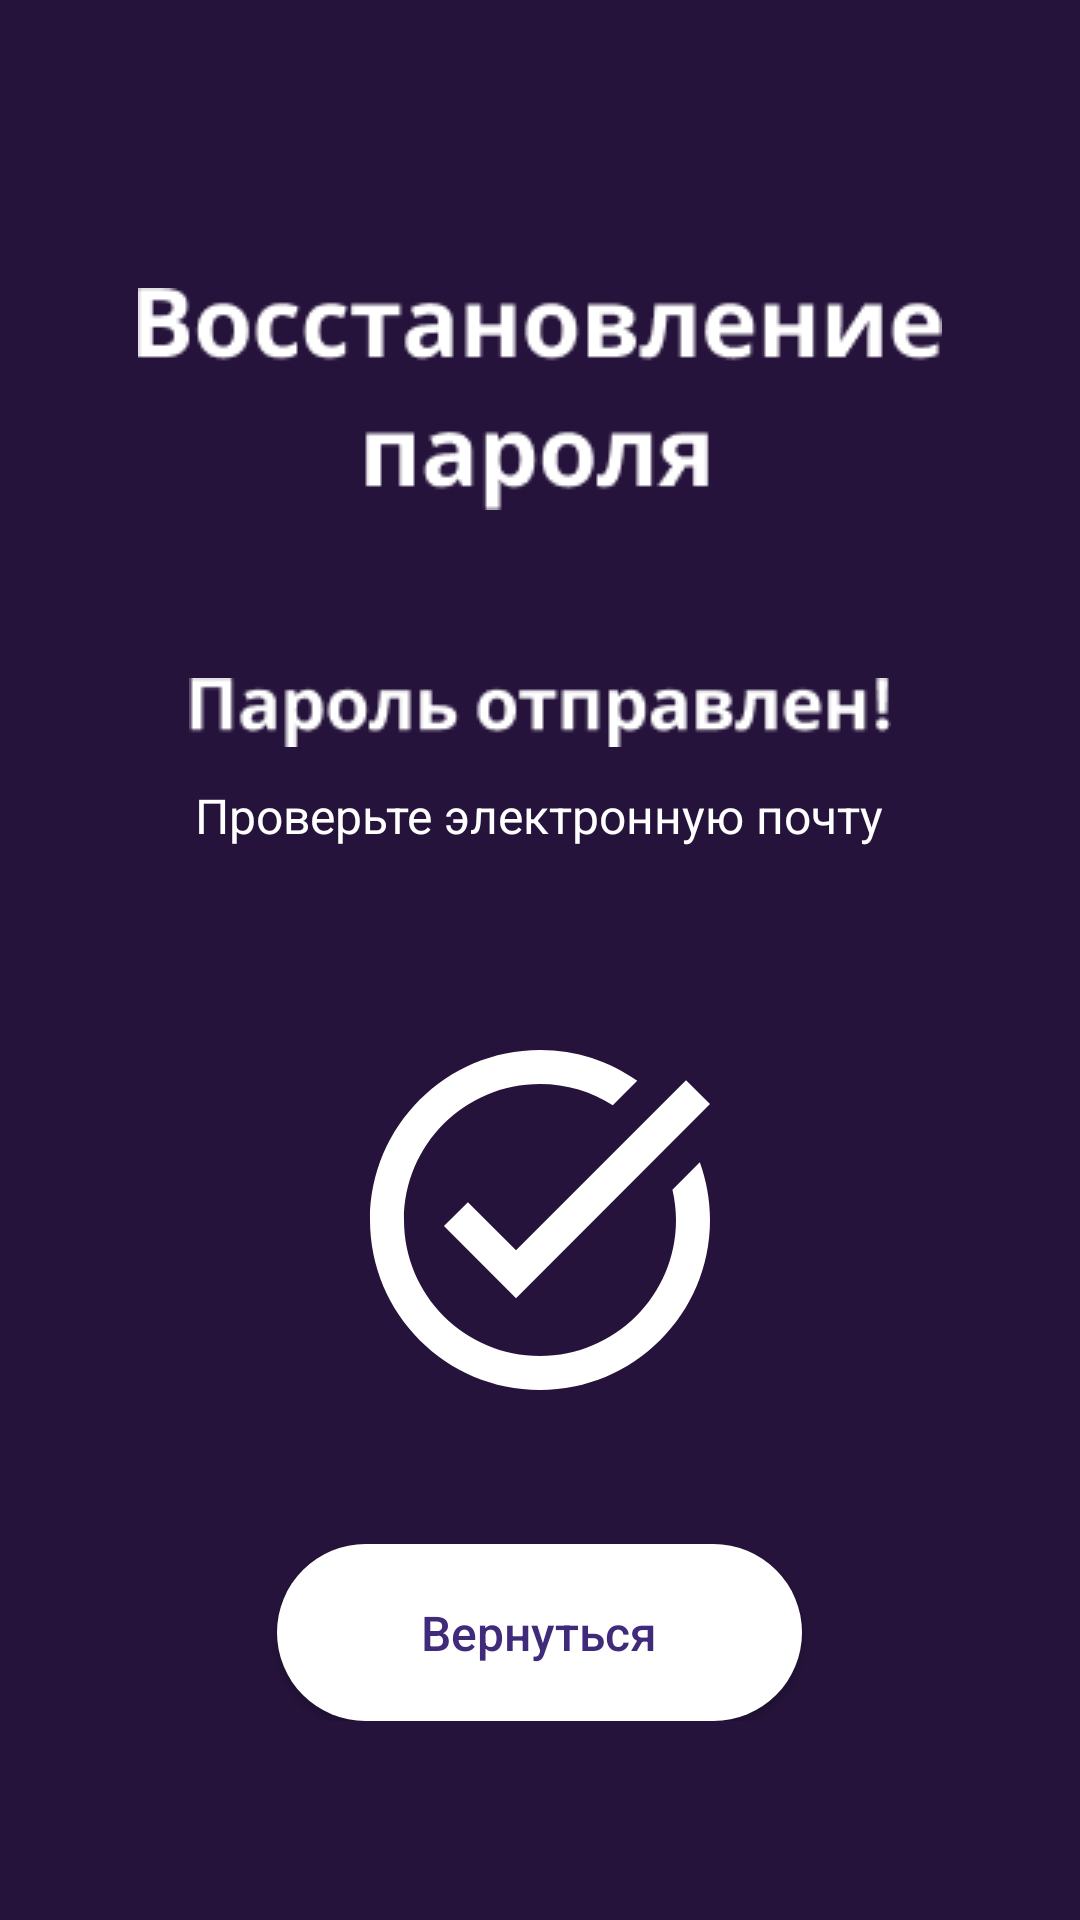

Icon click points for this 1080 x 1920 phone screenshot, format point (x, y):
taskok: point (540, 1220)
